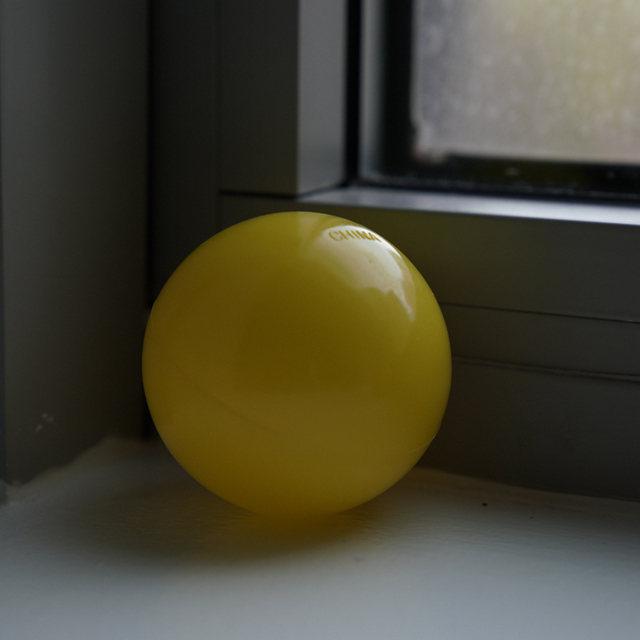Ball: (144, 215, 460, 503)
